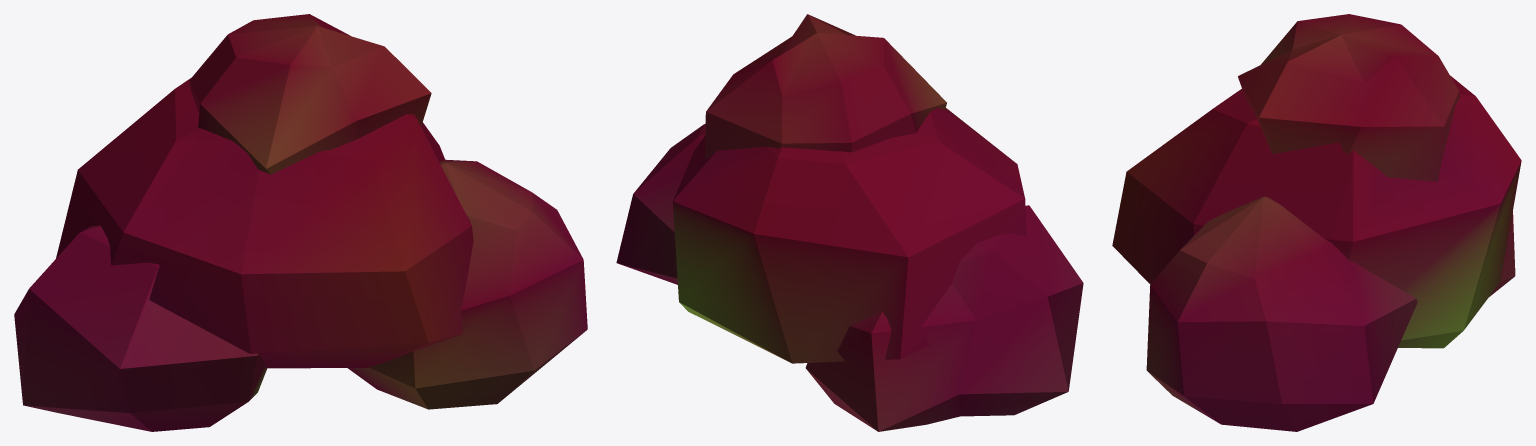
The model's file is Bush_Round_02.glb.
3 renders of one model, left to right at view 1: azimuth 30°, elevation 25°; view 2: azimuth 150°, elevation 25°; view 3: azimuth 270°, elevation 25°, orthographic. The views are drawn at different scales.
Visible parts, largest first — view 1: Bush_Round_02; view 2: Bush_Round_02; view 3: Bush_Round_02.
Part boxes in pixels (<box>): Bush_Round_02: <box>14,14,587,431</box>; Bush_Round_02: <box>616,14,1083,431</box>; Bush_Round_02: <box>1112,14,1521,431</box>.
Size of the model in its own units: 1.69 by 1.11 by 1.26.
